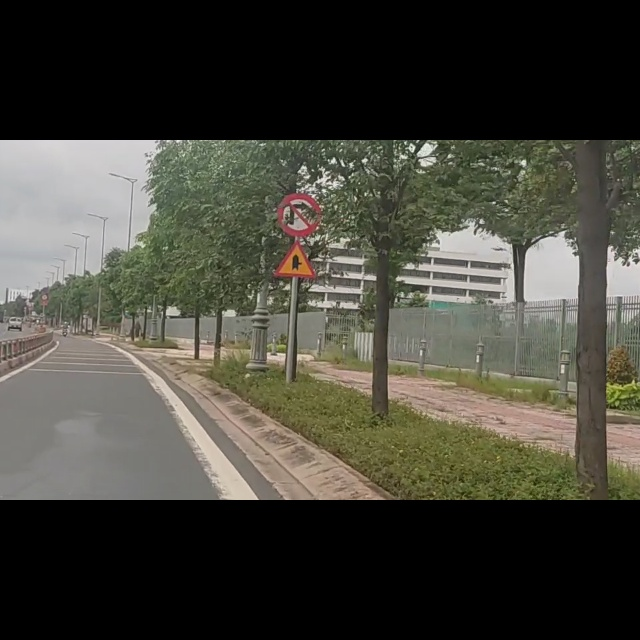bien_nguy_hiem: (275, 94, 323, 173), (275, 177, 317, 250)
